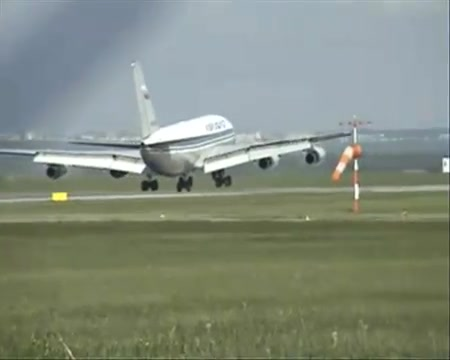aeroplane: (1, 61, 354, 194)
